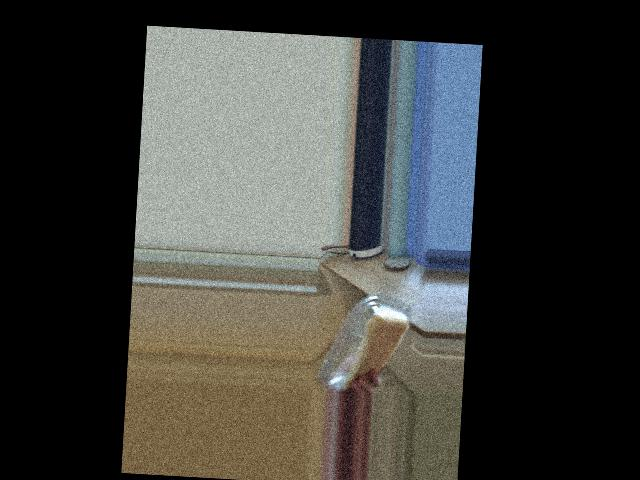cheese: (333, 301, 399, 359)
